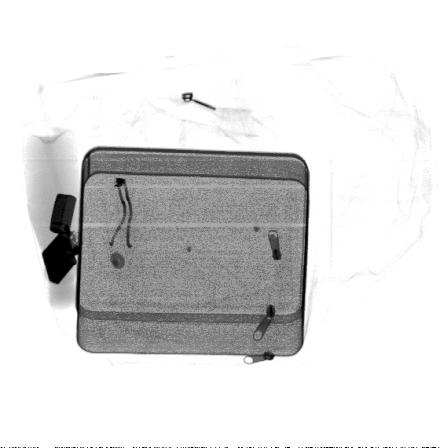Lighter: (40, 193, 82, 284)
